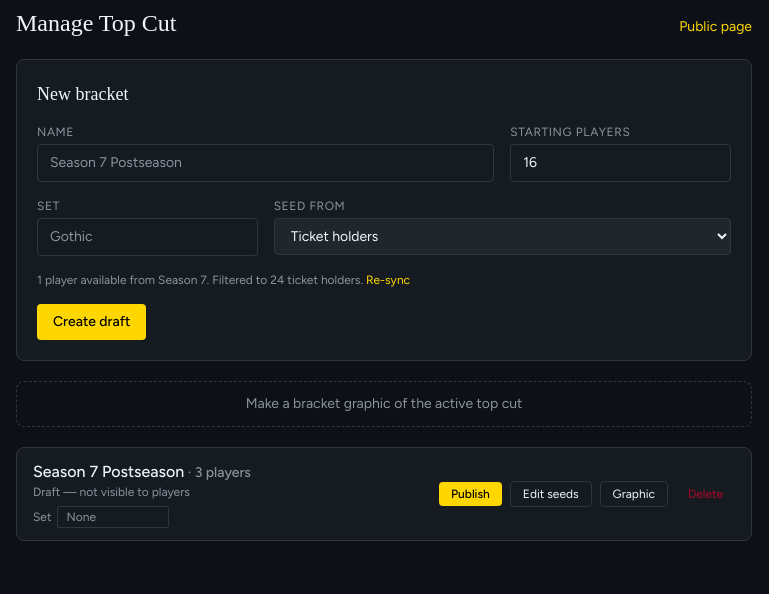
Test case: BracketsAdmin › says how short the pool was
Type "Small Cup" into the field labelled "Name" at point(266, 163), box [37, 144, 494, 182]
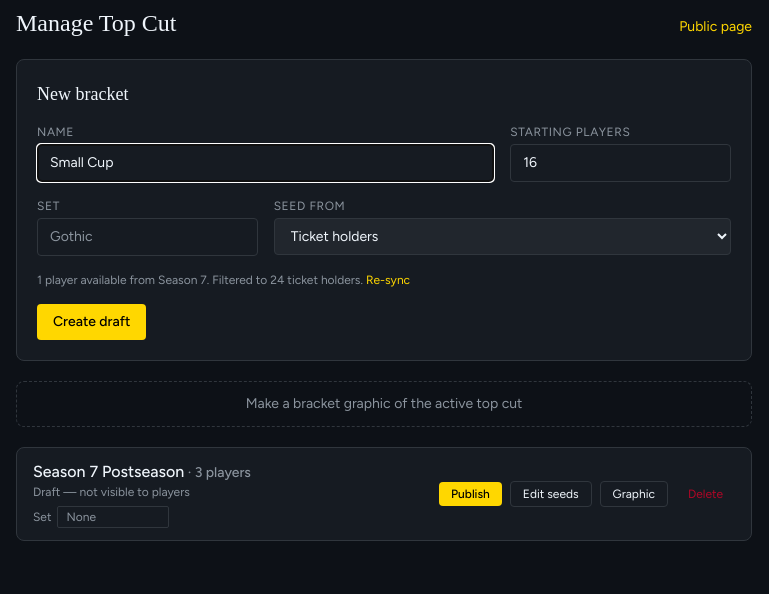
Click the button "Create draft" at point(92, 322), box [37, 304, 146, 340]
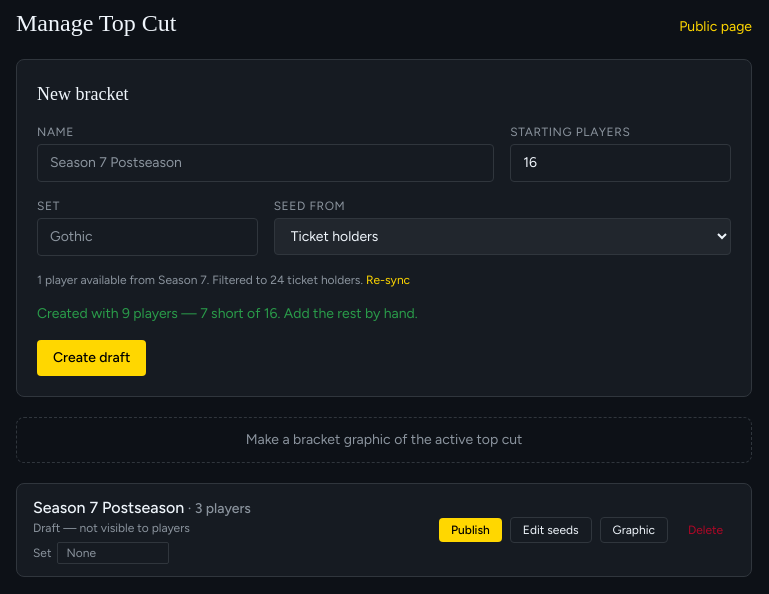
Check: the text "7 short of 16" is shown, box [37, 305, 418, 322]
